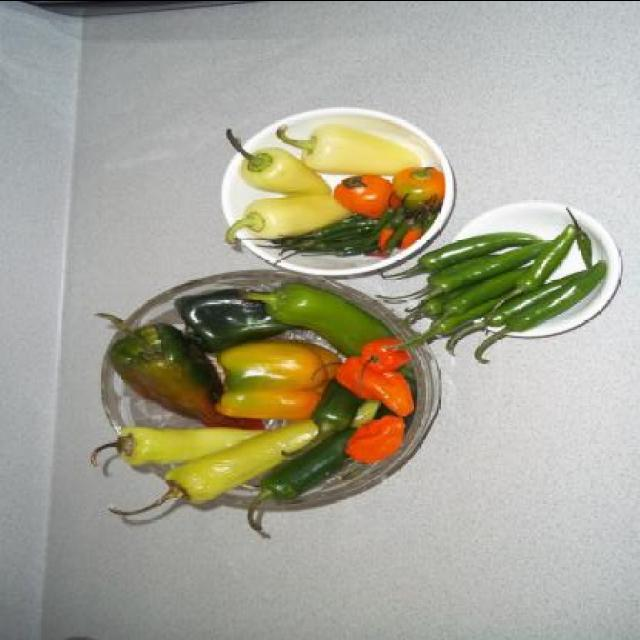Bell pepper: (95, 310, 268, 432), (222, 336, 350, 421), (174, 290, 294, 347), (306, 354, 412, 416), (346, 413, 411, 464), (334, 174, 402, 222), (388, 163, 446, 212), (357, 336, 409, 388)
